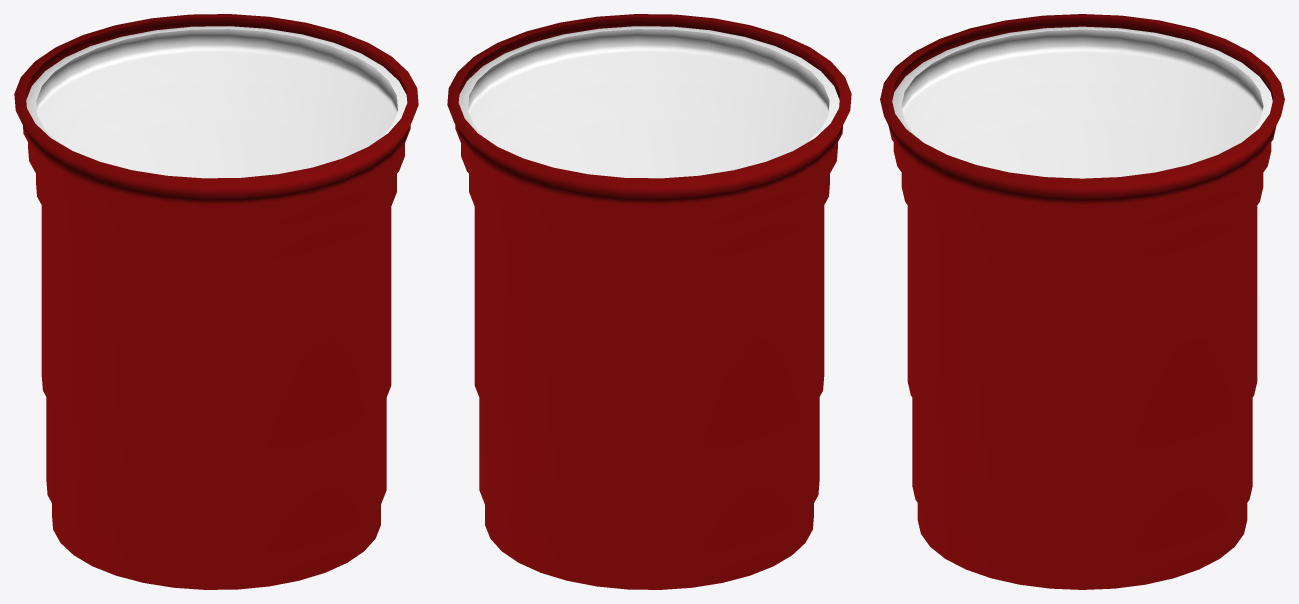
File: red_cup.fbx
3 views of the same model, side by side, from view 1: azimuth 30°, elevation 25°; view 2: azimuth 150°, elevation 25°; view 3: azimuth 270°, elevation 25° (orthographic).
Visible parts, largest first — view 1: Cylinder; view 2: Cylinder; view 3: Cylinder.
Part boxes in pixels (bbox=[...]): Cylinder: bbox=[14, 14, 418, 589]; Cylinder: bbox=[447, 14, 851, 589]; Cylinder: bbox=[880, 14, 1284, 589].
Bounding box in the file's own units: 219 × 253 × 219.
